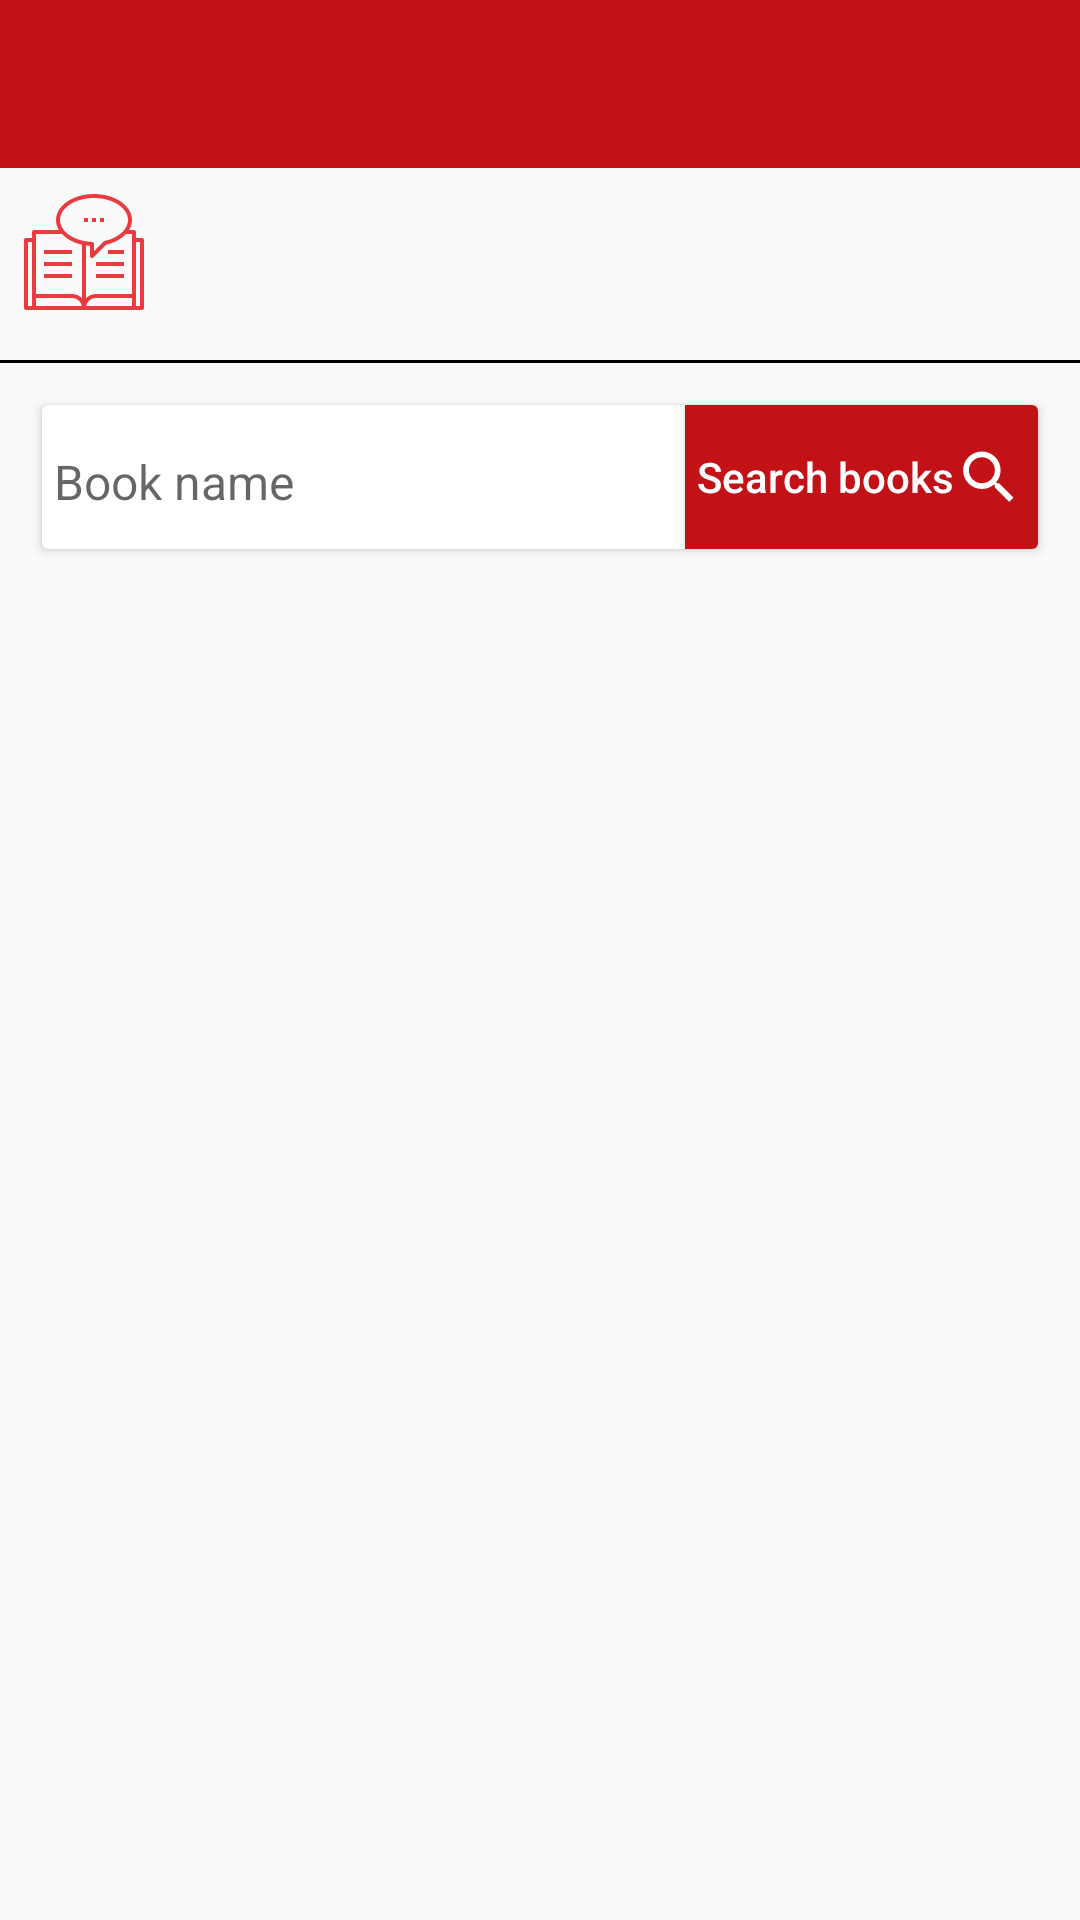

Named icons in this screenshot (1080*1920) and their bounding boxes, (x1, y1, x2, y2):
syllsbus: (24, 194, 144, 310)
